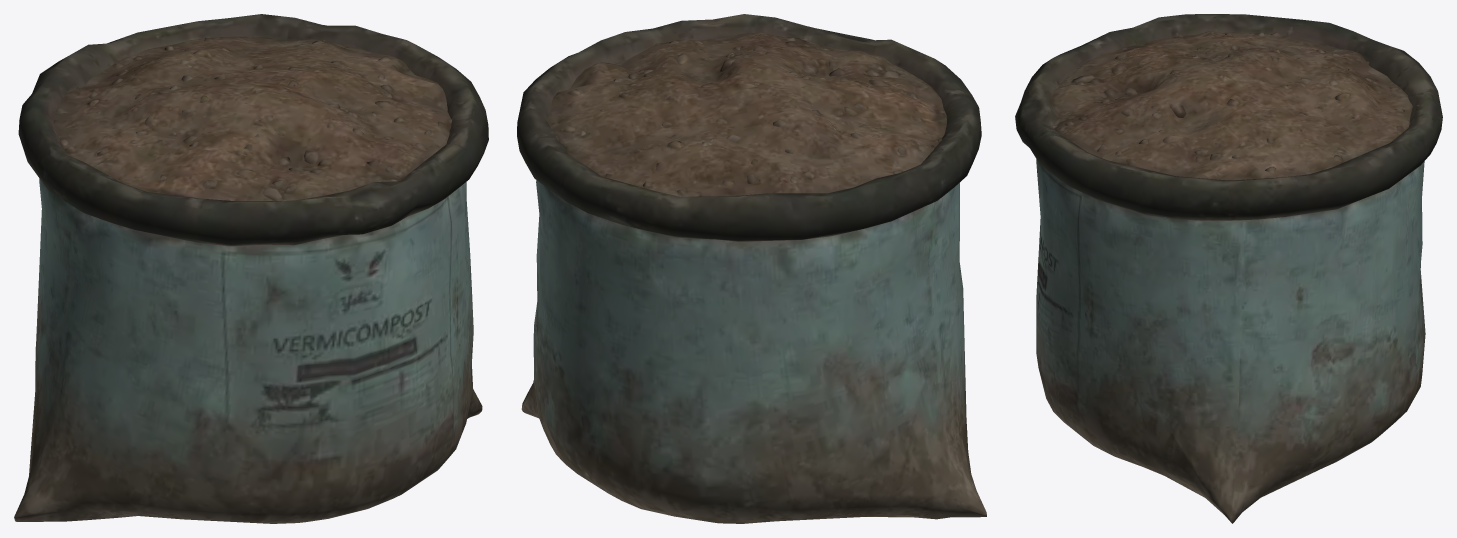
The model's file is compost_bag_02.glb.
The picture shows the model from 3 angles, left to right: view 1: azimuth 30°, elevation 25°; view 2: azimuth 150°, elevation 25°; view 3: azimuth 270°, elevation 25°; orthographic projection. The views are drawn at different scales.
Visible parts, largest first — view 1: compost_bag_02; view 2: compost_bag_02; view 3: compost_bag_02.
Boxes of the visible parts, bbox=[...] form: compost_bag_02: bbox=[14, 14, 488, 523]; compost_bag_02: bbox=[517, 14, 986, 523]; compost_bag_02: bbox=[1015, 14, 1442, 523].
Bounding box in the file's own units: 0.5381 × 0.4336 × 0.4705.
Materials: 1 (1 with a texture image).
